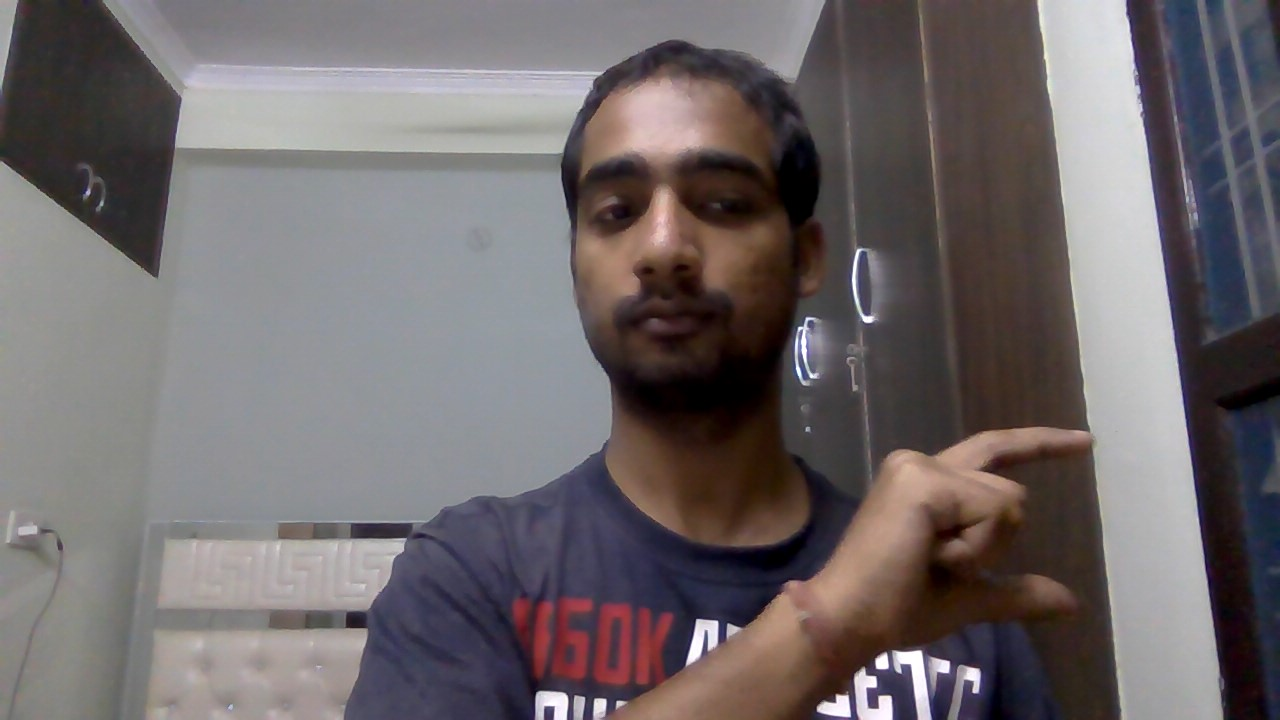Paste: (827, 408, 1121, 659)
